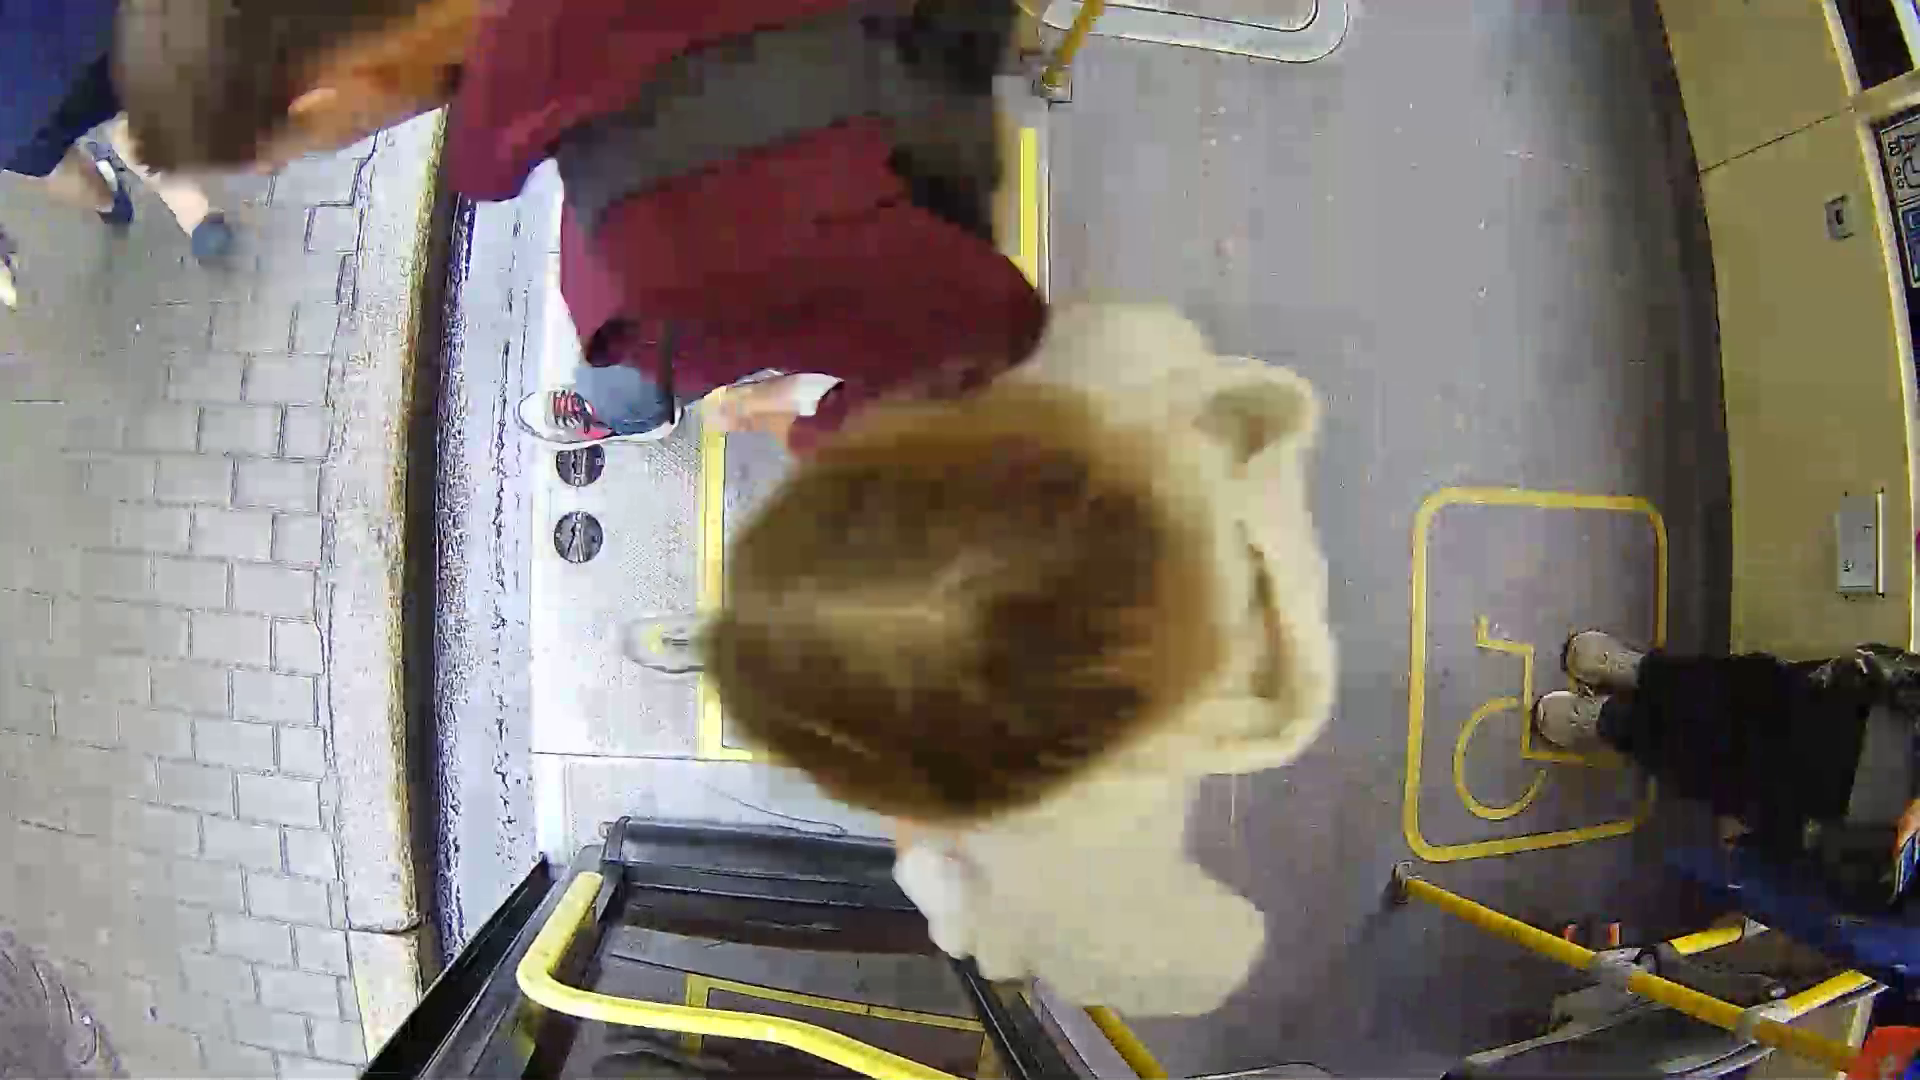person: (670, 318, 1420, 961), (111, 9, 1088, 469)
